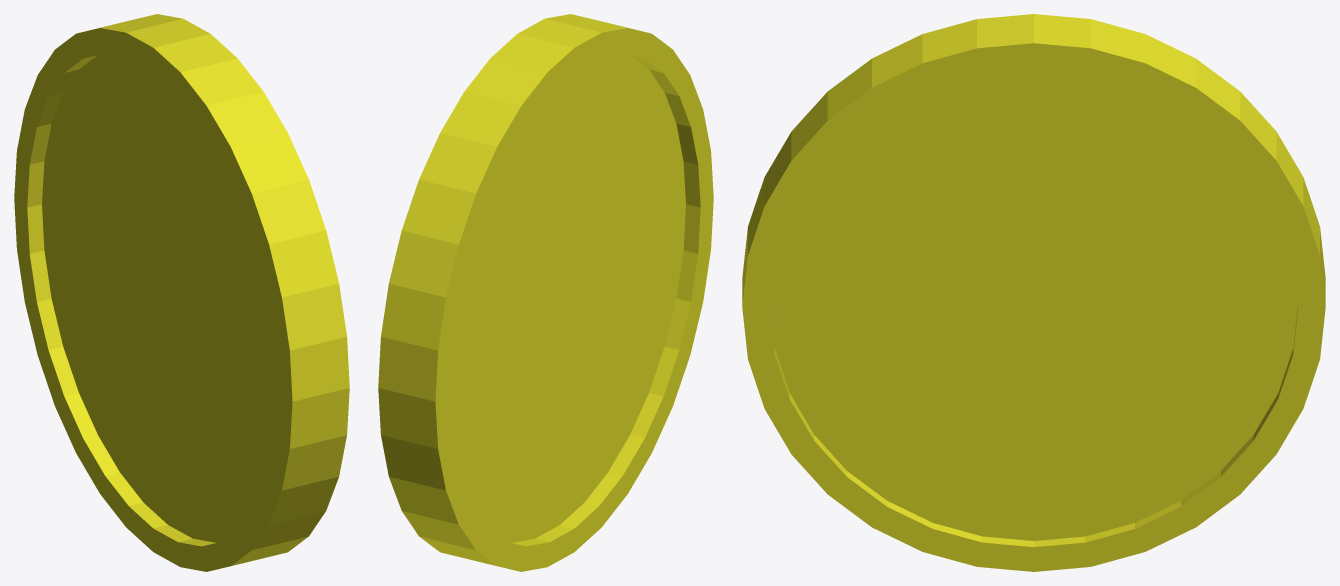
Rendered from ScorePickup.fbx.
The picture shows the model from 3 angles, left to right: view 1: azimuth 30°, elevation 25°; view 2: azimuth 150°, elevation 25°; view 3: azimuth 270°, elevation 25°; orthographic projection. The views are drawn at different scales.
Parts seen in each view (by area): view 1: Cylinder; view 2: Cylinder; view 3: Cylinder.
Boxes of the visible parts, x1,y1,x2,y2 form: Cylinder: [14, 14, 349, 571]; Cylinder: [378, 14, 713, 571]; Cylinder: [742, 14, 1325, 571].
Bounding box in the file's own units: 11.61 × 97.81 × 97.81.
